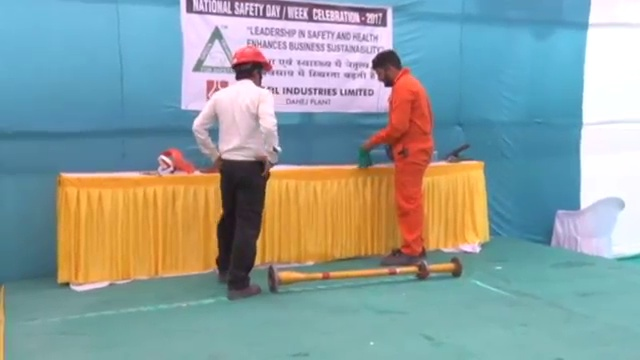helmet: (231, 44, 274, 74)
helmet_off: (371, 50, 404, 88)
helmet_on: (227, 44, 275, 84)
person: (195, 44, 279, 302), (368, 50, 431, 265)
